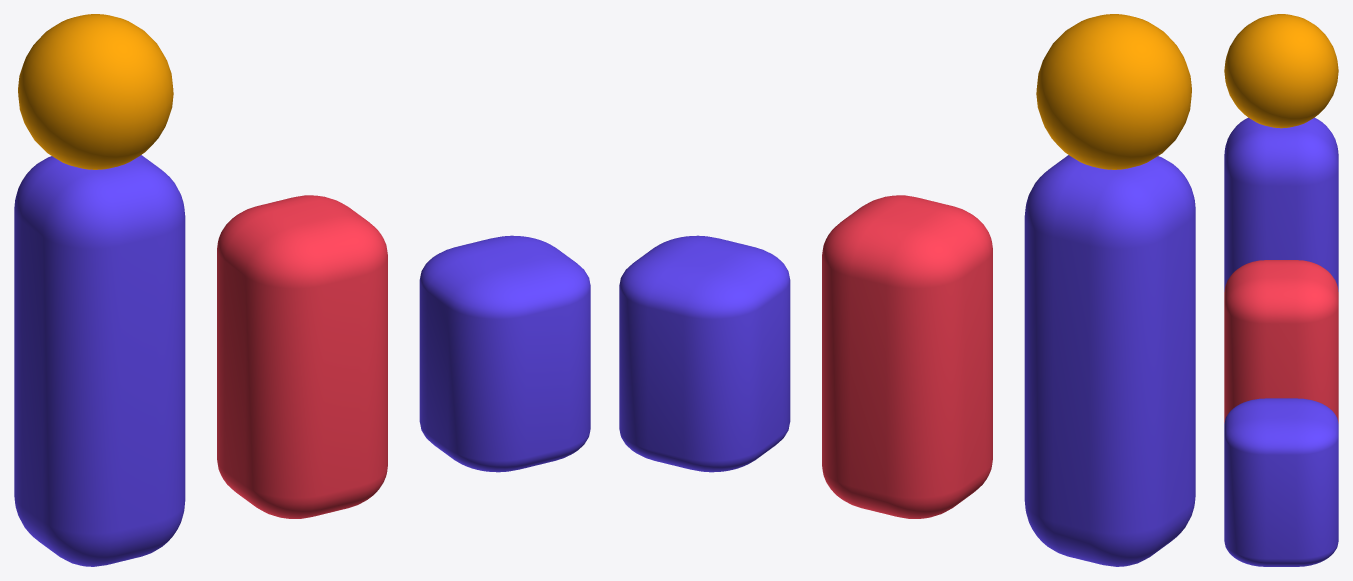
File: dropping-ball-loading-animated-3d-icon-481757047675.glb
The picture shows the model from 3 angles, left to right: view 1: azimuth 30°, elevation 25°; view 2: azimuth 150°, elevation 25°; view 3: azimuth 270°, elevation 25°; orthographic projection. The views are drawn at different scales.
Visible parts, largest first — view 1: Line 1, Line 2, Line 3, Sphere.005; view 2: Line 1, Line 2, Line 3, Sphere.005; view 3: Line 3, Line 1, Line 2, Sphere.005.
Boxes of the visible parts, x1=… form: Line 1: x1=14, y1=155, x2=185, y2=566; Line 2: x1=217, y1=195, x2=387, y2=518; Line 3: x1=419, y1=235, x2=590, y2=472; Sphere.005: x1=18, y1=14, x2=173, y2=169; Line 1: x1=1024, y1=155, x2=1195, y2=566; Line 2: x1=822, y1=195, x2=992, y2=518; Line 3: x1=619, y1=235, x2=790, y2=472; Sphere.005: x1=1036, y1=14, x2=1191, y2=169; Line 3: x1=1224, y1=398, x2=1338, y2=566; Line 1: x1=1224, y1=117, x2=1338, y2=291; Line 2: x1=1224, y1=260, x2=1338, y2=423; Sphere.005: x1=1224, y1=14, x2=1338, y2=128.
Bounding box in the file's own units: 1.61 × 1.5 × 0.4.
